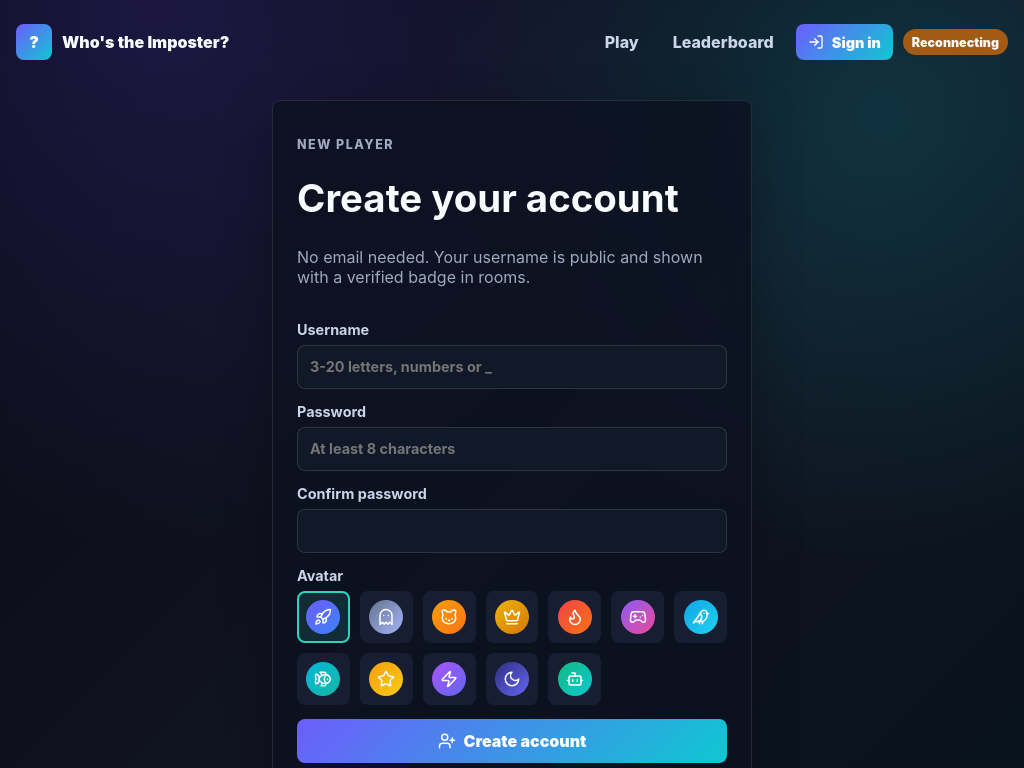
sign in › checks registration input before contacting the server
The width and height of the screenshot is (1024, 768).
Type "Nova 7" into the field labelled "Username". click: (512, 367)
box: [297, 345, 727, 389]
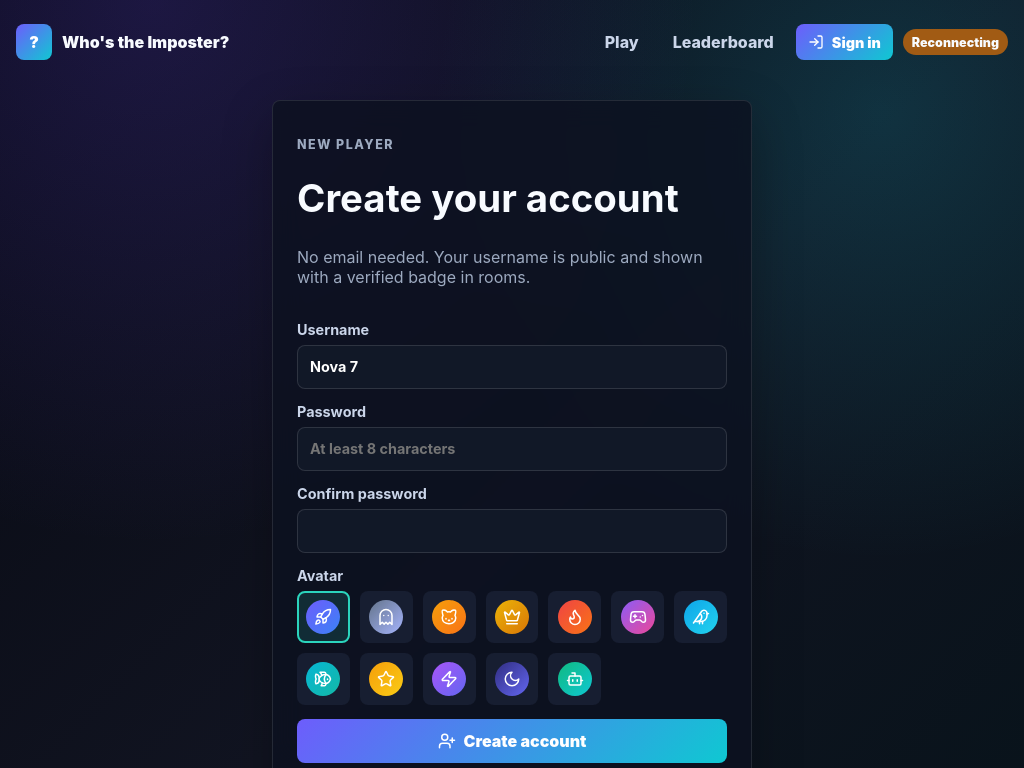
Type "correct horse 42" into the password field labelled "Password". click: (512, 449)
box: [297, 427, 727, 471]
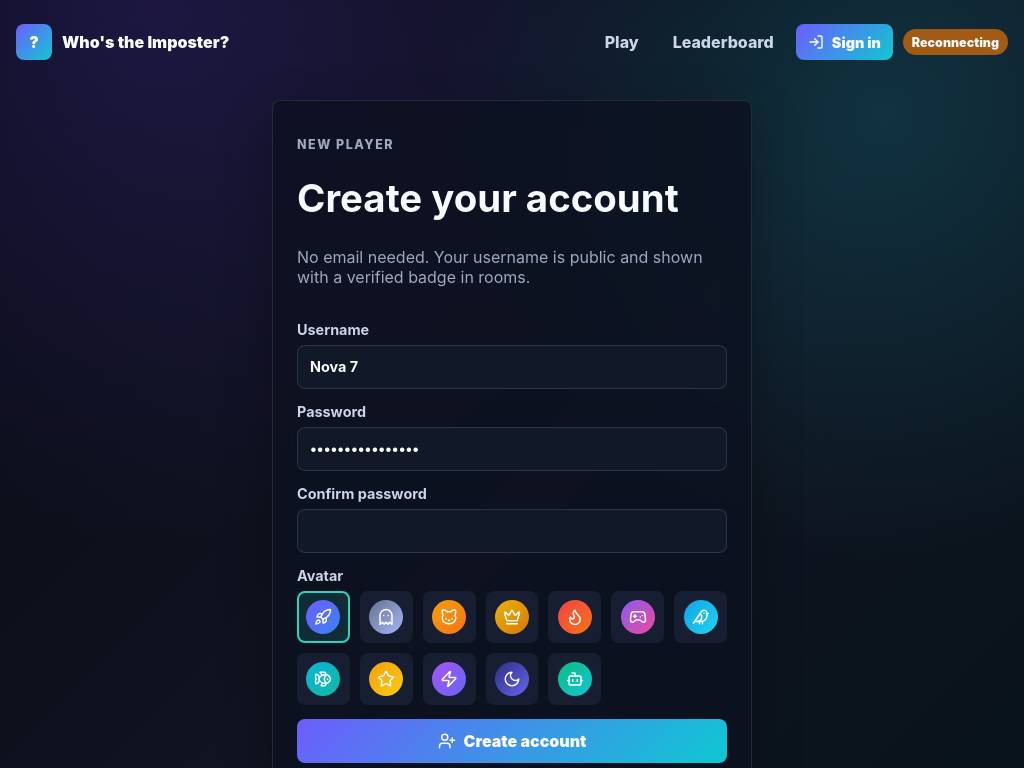
Type "correct horse 42" into the password field labelled "Confirm password". click: (512, 531)
box: [297, 509, 727, 553]
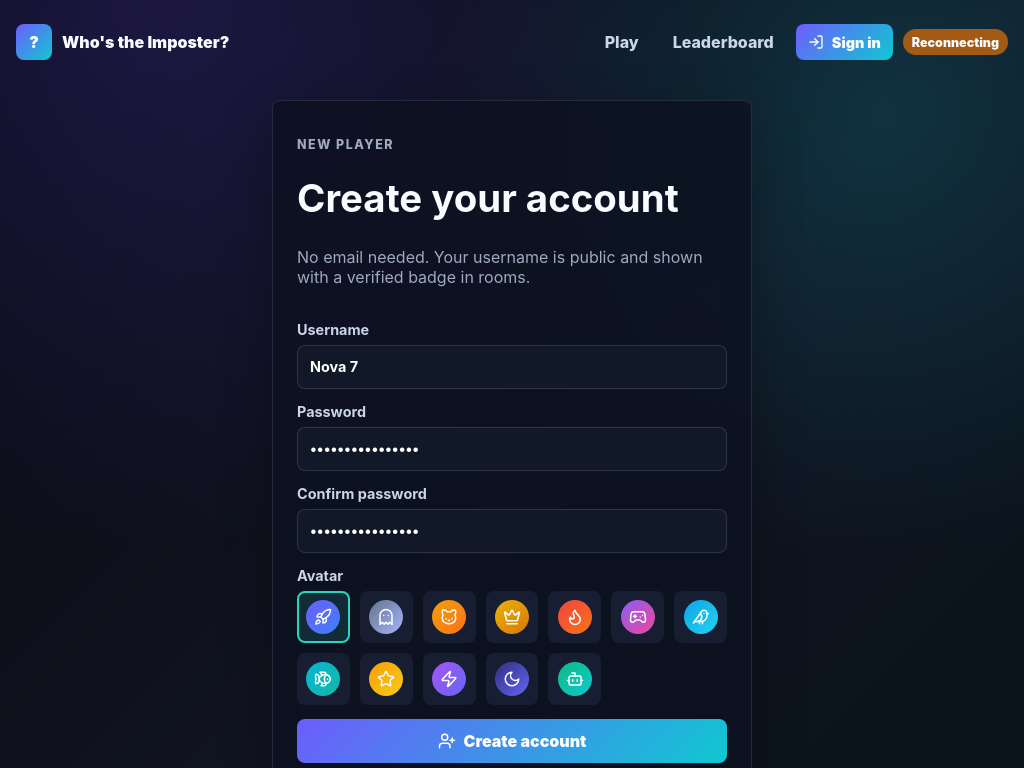
Click the button "Create account". click: (512, 741)
box: [297, 719, 727, 763]
(page scrolled)
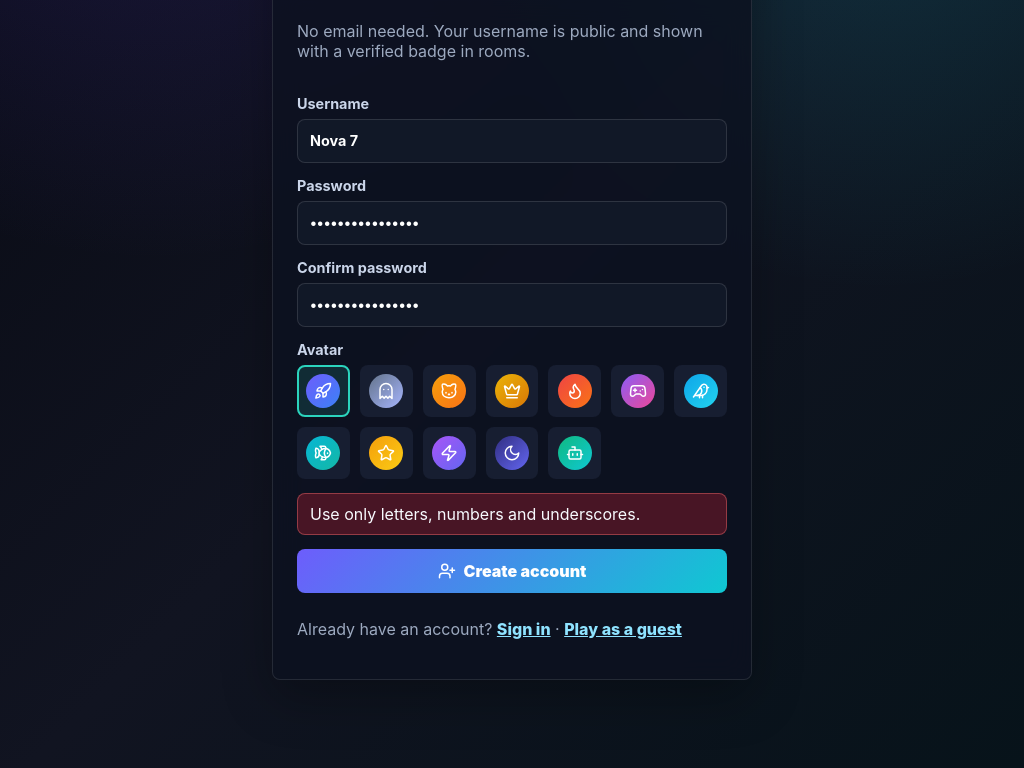
Expected: the message reads "Use only letters, numbers and underscores.", [310, 504, 640, 524]
